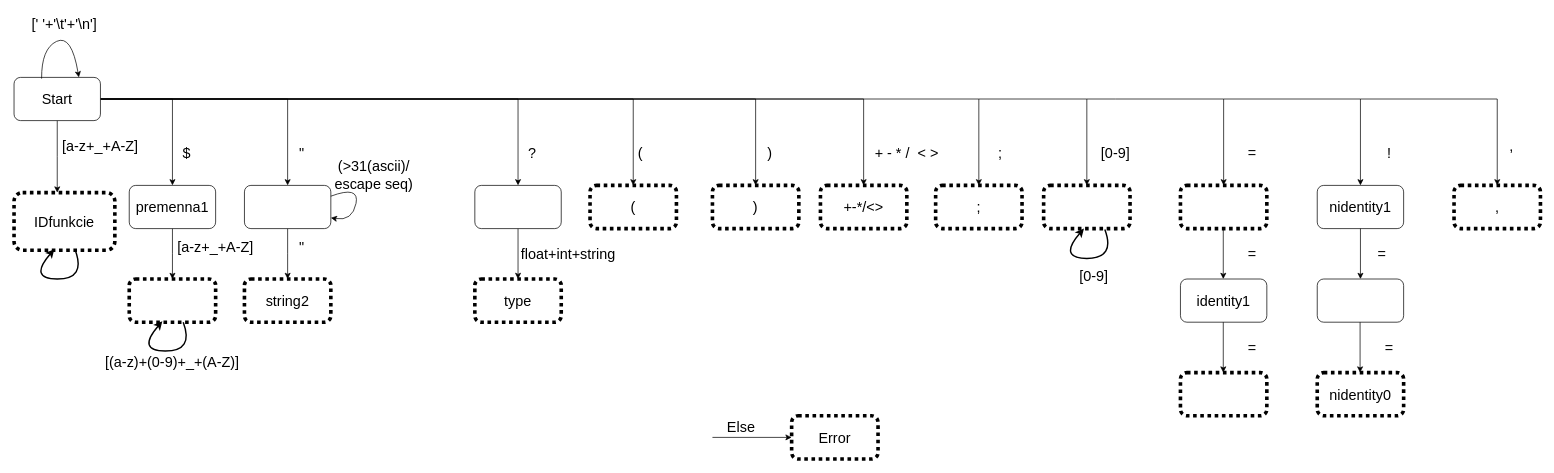
The diagram is 1554 pixels wide and 473 high, and some of its shapes have lost their labels. The centre of each missing label's shape, as x and y in pixels:
"identity0" belongs at (x=1223, y=393).
"INT" belongs at (x=1086, y=206).
"nidentity2" belongs at (x=1360, y=300).
"premenna2" belongs at (x=172, y=300).
"priradenie" belongs at (x=1223, y=206).
"string1" belongs at (x=287, y=207).
"type1" belongs at (x=517, y=207).
